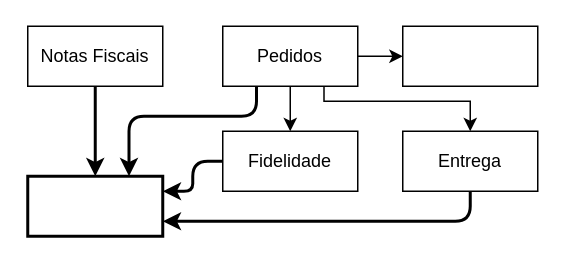
The diagram is 564 pixels wide and 264 high, and some of its shapes have lost their labels. Each missing label, with the centre of its shape:
"Estoque" goes at (x=469, y=55).
"Notificações" goes at (x=95, y=205).
